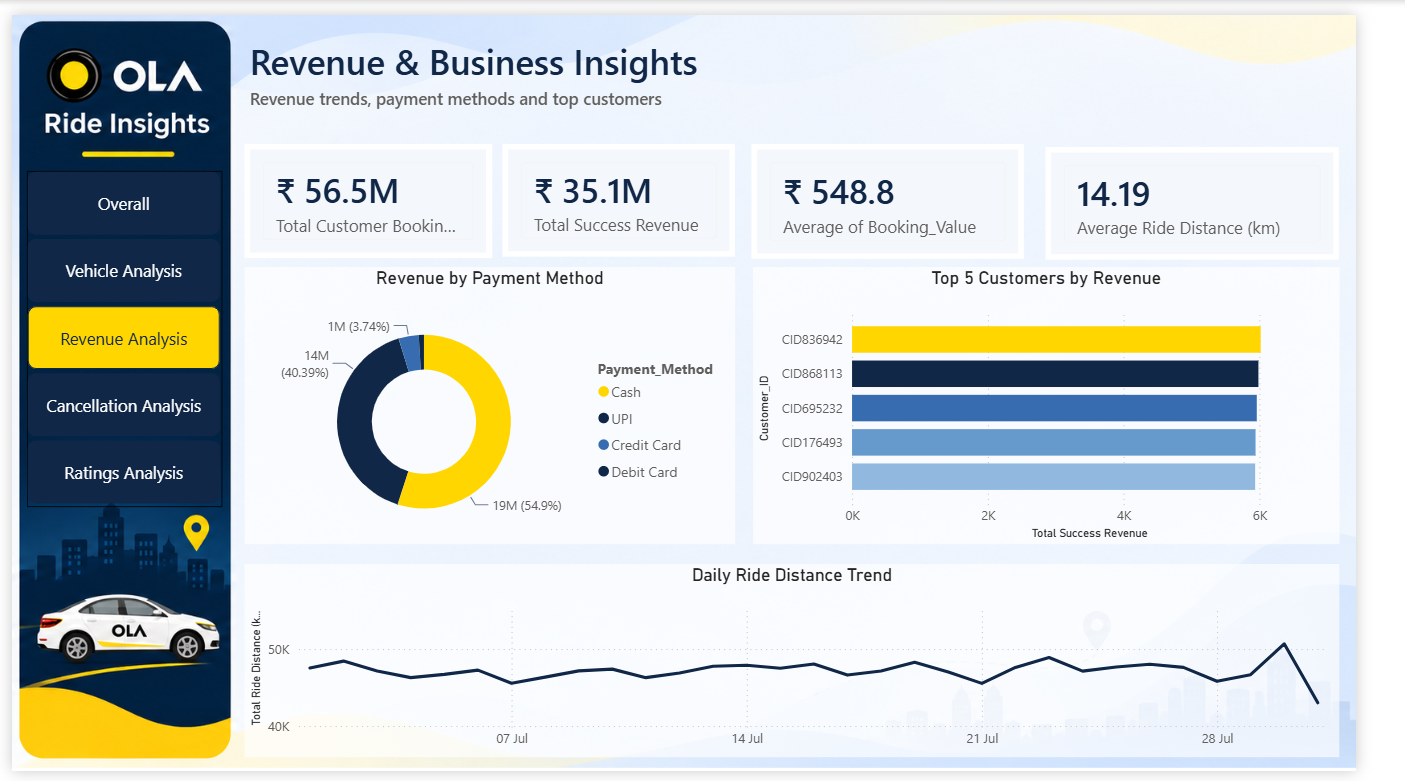

The page's visual inventory and layout, read from the dashboard file:
{"tool":"powerbi","page":{"name":"Revenue Analysis","canvas":[1280,720],"ordinal":2},"visuals":[{"type":"cardVisual","fields":{"Data":["cleaned_ola_data.Total Success Revenue"]},"box":[467.8,123.5,221.4,107.1],"z":0},{"type":"cardVisual","fields":{"Data":["cleaned_ola_data.Total Customer Booking Value"]},"box":[220.8,123.5,235.7,108.6],"z":1000},{"type":"cardVisual","fields":{"Data":["cleaned_ola_data.Average Ride Distance"]},"box":[984.3,125.6,279.5,107.3],"z":2000},{"type":"cardVisual","fields":{"Data":["Avg(cleaned_ola_data.Booking_Value)"]},"box":[704.8,123.5,259.2,109.4],"z":3000},{"type":"donutChart","title":"Revenue by Payment Method","fields":{"Category":["cleaned_ola_data.Payment_Method"],"Y":["cleaned_ola_data.Total Success Revenue"]},"box":[221.4,240,467.1,264.3],"z":4000},{"type":"clusteredBarChart","title":"Top 5 Customers by Revenue","fields":{"Category":["cleaned_ola_data.Customer_ID"],"Y":["cleaned_ola_data.Total Success Revenue"]},"box":[705.7,240,558.6,264.3],"z":5000},{"type":"lineChart","title":"Daily Ride Distance Trend","fields":{"Y":["cleaned_ola_data.Total Ride Distance"],"Category":["cleaned_ola_data.Date Only.Variation.Date Hierarchy.Year","cleaned_ola_data.Date Only.Variation.Date Hierarchy.Quarter","cleaned_ola_data.Date Only.Variation.Date Hierarchy.Month","cleaned_ola_data.Date Only.Variation.Date Hierarchy.Day"]},"box":[221.4,522.9,1042.9,184.3],"z":6000},{"type":"pageNavigator","box":[14.3,148.6,185.7,320],"z":6001},{"type":"textbox","title":"Revenue & Business Insights","box":[221.4,21.4,1042.9,87.1],"z":6002}]}

Visuals, with their boxes in screenshot pixels (x1, y1, x2, y2), scaled from the page's 1280x720 canvas onto the 1405x781 screenshot:
cardVisual - cleaned_ola_data.Total Success Revenue: left=513, top=134, right=757, bottom=250
cardVisual - cleaned_ola_data.Total Customer Booking Value: left=242, top=134, right=501, bottom=252
cardVisual - cleaned_ola_data.Average Ride Distance: left=1080, top=136, right=1387, bottom=253
cardVisual - Avg(cleaned_ola_data.Booking_Value): left=774, top=134, right=1058, bottom=253
"Revenue by Payment Method" donutChart: left=243, top=260, right=756, bottom=547
"Top 5 Customers by Revenue" clusteredBarChart: left=775, top=260, right=1388, bottom=547
"Daily Ride Distance Trend" lineChart: left=243, top=567, right=1388, bottom=767
pageNavigator: left=16, top=161, right=220, bottom=508
"Revenue & Business Insights" textbox: left=243, top=23, right=1388, bottom=118
